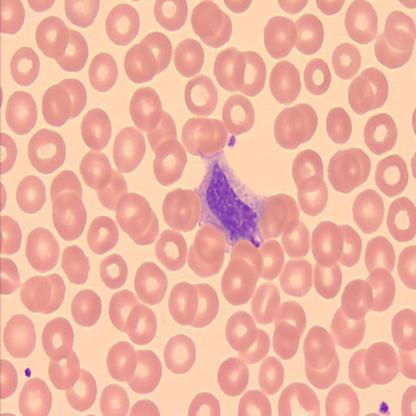Myelocyte: (194, 154, 264, 249)
